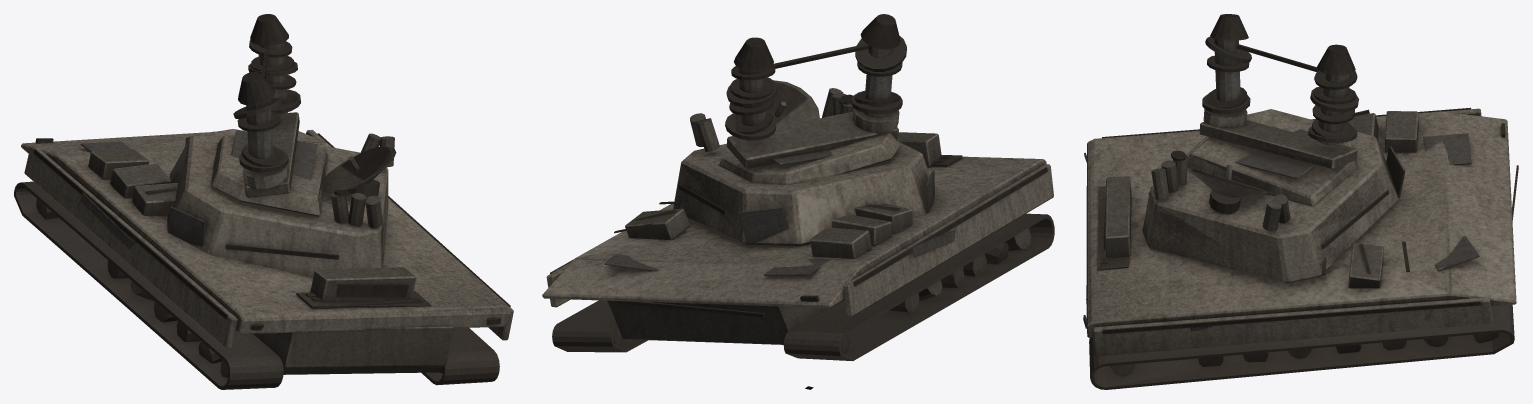
The model's file is ord_thunderer_wreck.fbx.
3 renders of one model, left to right at view 1: azimuth 30°, elevation 25°; view 2: azimuth 150°, elevation 25°; view 3: azimuth 270°, elevation 25°, orthographic. The views are drawn at different scales.
Visible parts, largest first — view 1: base_bar, turret_bar, trackL_bar, barrel_bar, trackR_bar; view 2: base_bar, turret_bar, barrel_bar, trackL_bar, trackR_bar; view 3: base_bar, turret_bar, trackR_bar, barrel_bar.
Boxes of the visible parts, <box> form: base_bar: <box>21,129,513,374</box>; turret_bar: <box>167,129,396,277</box>; trackL_bar: <box>14,181,283,389</box>; barrel_bar: <box>233,14,300,197</box>; trackR_bar: <box>421,327,499,385</box>; base_bar: <box>542,132,1053,344</box>; turret_bar: <box>673,80,937,245</box>; barrel_bar: <box>725,14,906,168</box>; trackL_bar: <box>783,213,1054,360</box>; trackR_bar: <box>552,300,647,352</box>; base_bar: <box>1083,107,1518,356</box>; turret_bar: <box>1142,109,1405,283</box>; trackR_bar: <box>1089,304,1514,389</box>; barrel_bar: <box>1199,14,1358,169</box>.
Bounding box in the file's own units: 1061 × 1169 × 1390.
2 materials, 2 textured.
